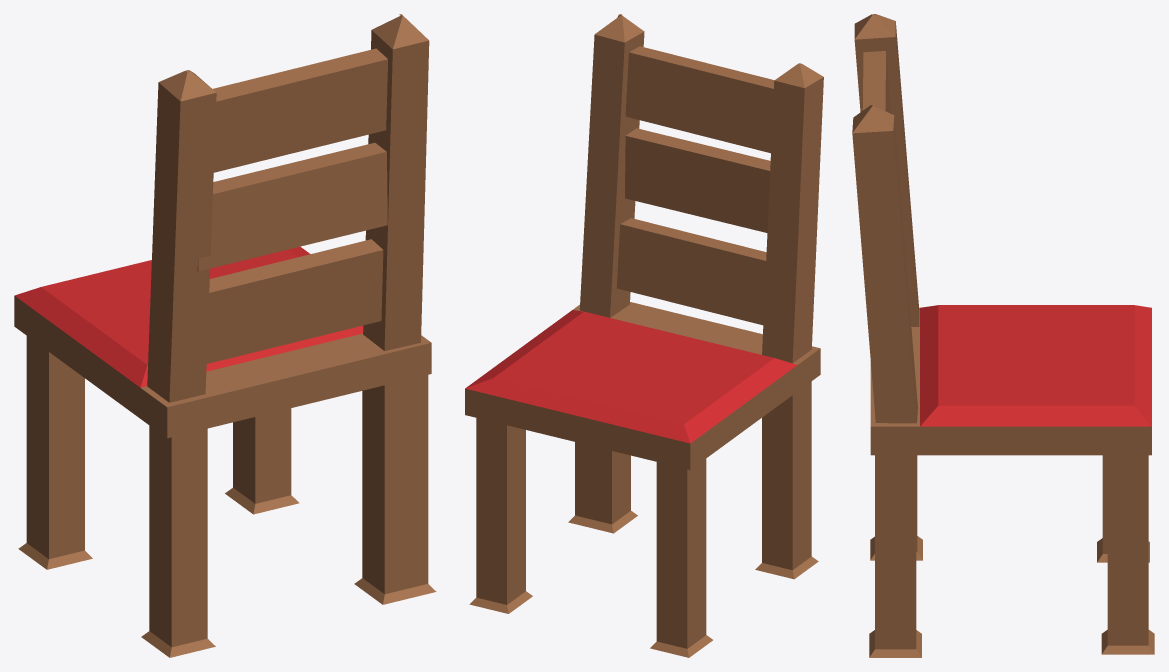
Rendered from chair.fbx.
3 views of the same model, side by side, from view 1: azimuth 30°, elevation 25°; view 2: azimuth 150°, elevation 25°; view 3: azimuth 270°, elevation 25° (orthographic). The views are drawn at different scales.
Parts seen in each view (by area): view 1: Cube, Cube.006, Cube.007, Cube.009, Cube.005, Cube.008, Cube.010, Cube.004, Cube.002, Cube.003, Cube.001; view 2: Cube, Cube.006, Cube.008, Cube.009, Cube.005, Cube.007, Cube.004, Cube.003, Cube.010, Cube.002, Cube.001; view 3: Cube, Cube.008, Cube.003, Cube.001, Cube.006, Cube.005, Cube.004, Cube.010.
Boxes of the visible parts, bbox=[...] form: Cube: bbox=[14, 246, 431, 438]; Cube.006: bbox=[147, 70, 216, 402]; Cube.007: bbox=[197, 142, 387, 271]; Cube.009: bbox=[206, 239, 383, 363]; Cube.005: bbox=[213, 48, 387, 172]; Cube.008: bbox=[363, 14, 429, 350]; Cube.010: bbox=[141, 425, 215, 657]; Cube.004: bbox=[18, 336, 92, 569]; Cube.002: bbox=[354, 383, 428, 604]; Cube.003: bbox=[225, 408, 299, 514]; Cube.001: bbox=[391, 375, 436, 596]; Cube: bbox=[465, 302, 820, 469]; Cube.006: bbox=[762, 63, 823, 363]; Cube.008: bbox=[579, 14, 644, 317]; Cube.009: bbox=[616, 218, 766, 325]; Cube.005: bbox=[625, 46, 774, 153]; Cube.007: bbox=[625, 128, 770, 232]; Cube.004: bbox=[650, 459, 712, 657]; Cube.003: bbox=[469, 418, 532, 613]; Cube.010: bbox=[755, 381, 818, 579]; Cube.002: bbox=[574, 443, 637, 533]; Cube.001: bbox=[568, 442, 606, 531]; Cube: bbox=[870, 305, 1151, 455]; Cube.008: bbox=[852, 104, 917, 423]; Cube.003: bbox=[1101, 455, 1154, 654]; Cube.001: bbox=[869, 455, 921, 657]; Cube.006: bbox=[854, 14, 919, 326]; Cube.005: bbox=[862, 51, 891, 113]; Cube.004: bbox=[1097, 455, 1149, 562]; Cube.010: bbox=[870, 455, 922, 560].
Size of the model in its own units: 87.05 by 182 by 92.22.
